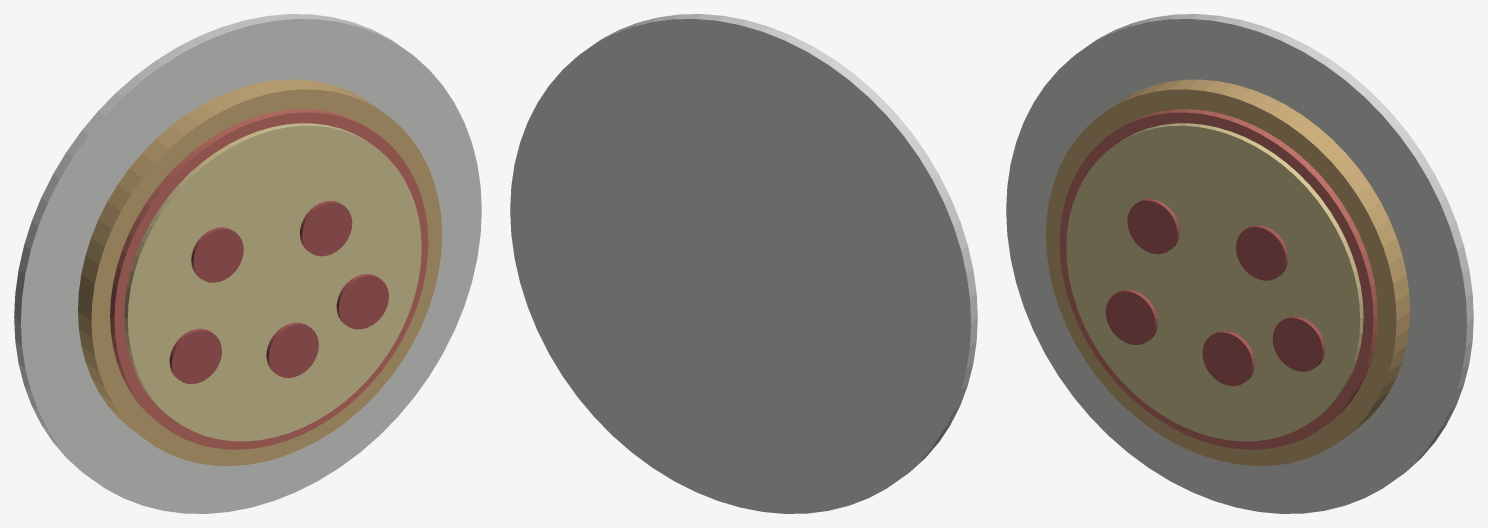
File: pizza.glb
3 views of the same model, side by side, from view 1: azimuth 30°, elevation 25°; view 2: azimuth 150°, elevation 25°; view 3: azimuth 330°, elevation 25° (orthographic).
Visible parts, largest first — view 1: plate, cheese, crust, sauce, pepperoni1, pepperoni4, pepperoni2, pepperoni3, pepperoni0; view 2: plate; view 3: plate, cheese, crust, sauce, pepperoni1, pepperoni0, pepperoni2, pepperoni4, pepperoni3.
Part boxes in pixels (x1,y1,x2,y2): plate: (14,14,481,513); cheese: (124,123,421,441); crust: (78,79,441,465); sauce: (110,109,428,449); pepperoni1: (191,227,243,282); pepperoni4: (336,274,388,329); pepperoni2: (266,322,318,377); pepperoni3: (169,328,221,384); pepperoni0: (300,200,352,256); plate: (510,14,977,513); plate: (1006,14,1473,513); cheese: (1066,123,1363,441); crust: (1046,79,1409,465); sauce: (1059,109,1377,449); pepperoni1: (1127,198,1179,254); pepperoni0: (1236,225,1288,280); pepperoni2: (1202,330,1254,386); pepperoni4: (1272,316,1324,371); pepperoni3: (1105,289,1157,344).
Size of the model in its own units: 2.76 by 2.76 by 0.3375.
